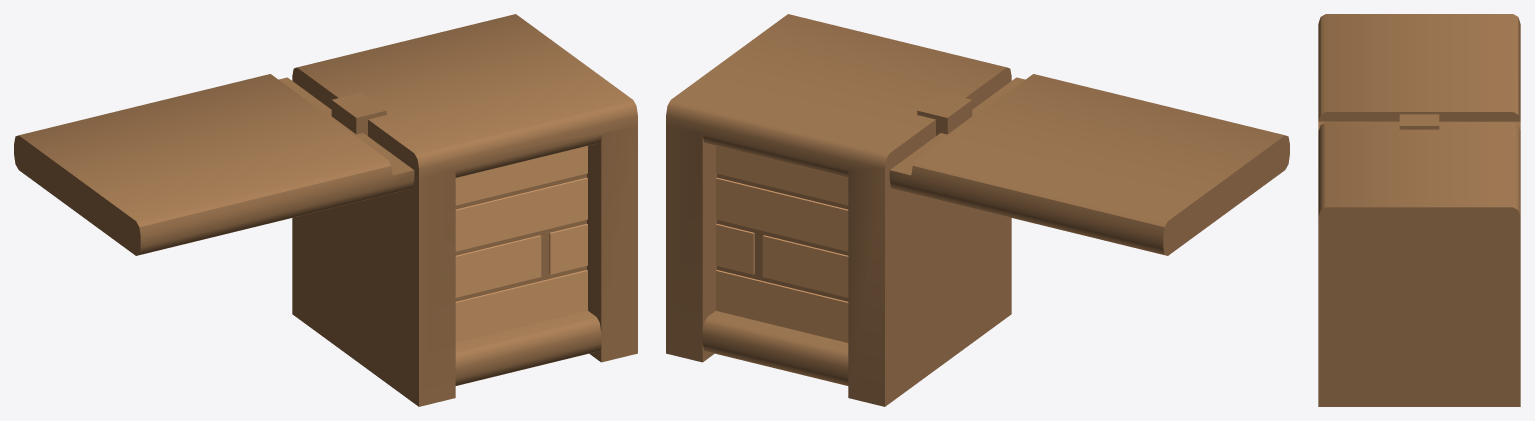
The model's file is quaternius-sushi-restaurant-environment-counter-door.glb.
3 views of the same model, side by side, from view 1: azimuth 30°, elevation 25°; view 2: azimuth 150°, elevation 25°; view 3: azimuth 270°, elevation 25° (orthographic). The views are drawn at different scales.
Visible parts, largest first — view 1: Environment_Counter_Door; view 2: Environment_Counter_Door; view 3: Environment_Counter_Door.
Boxes of the visible parts, x1=… form: Environment_Counter_Door: x1=14, y1=14, x2=637, y2=406; Environment_Counter_Door: x1=666, y1=14, x2=1289, y2=406; Environment_Counter_Door: x1=1318, y1=14, x2=1520, y2=406.
Bounding box in the file's own units: 4 × 1.96 × 1.77.
Materials: 1 (1 with a texture image).
